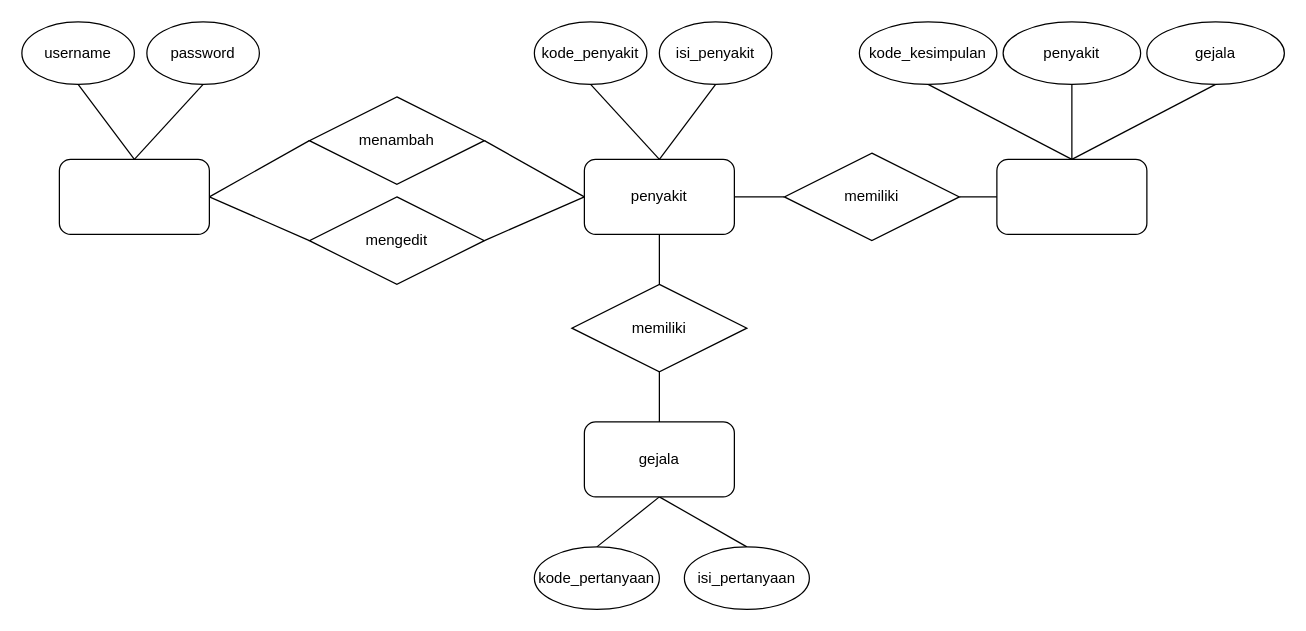
This 1306x631 diagram has some shape labels left out. Each missing label, with the centre of its shape:
"admin" belongs at point 133,196.
"kesimpulan" belongs at point 1071,196.
